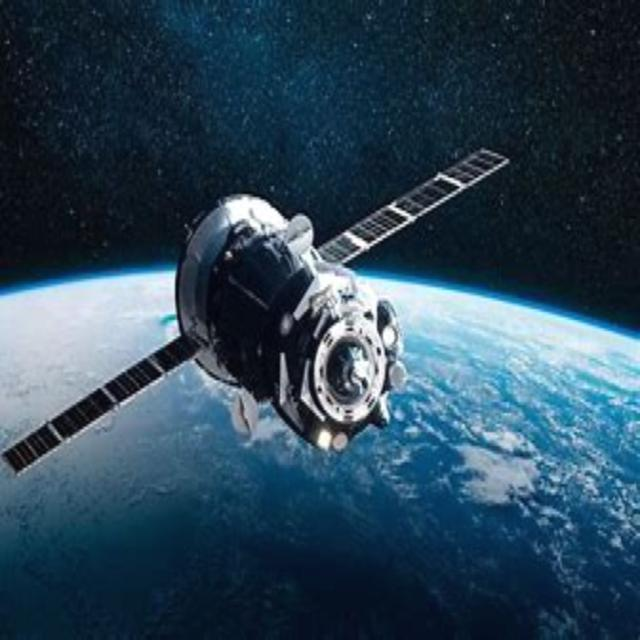satellite: (0, 130, 526, 502)
